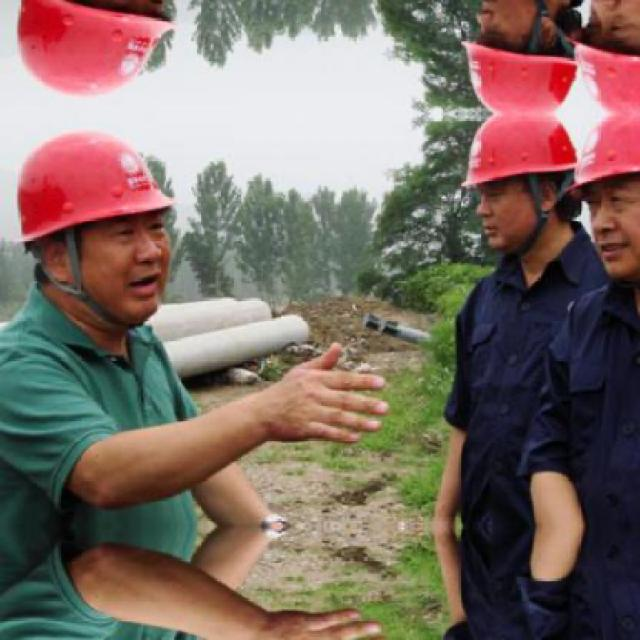helmet: (5, 120, 200, 332), (3, 0, 200, 106), (464, 112, 596, 260), (463, 0, 595, 114), (565, 112, 637, 272), (563, 0, 637, 114)
